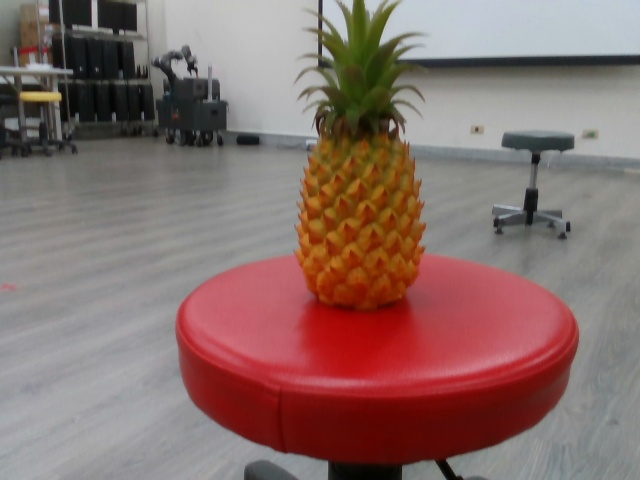pineapple: (286, 1, 430, 310)
